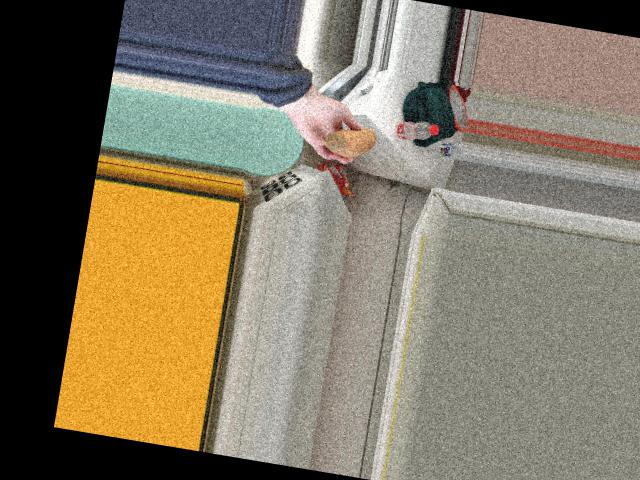sweet_potato: (318, 125, 379, 159)
